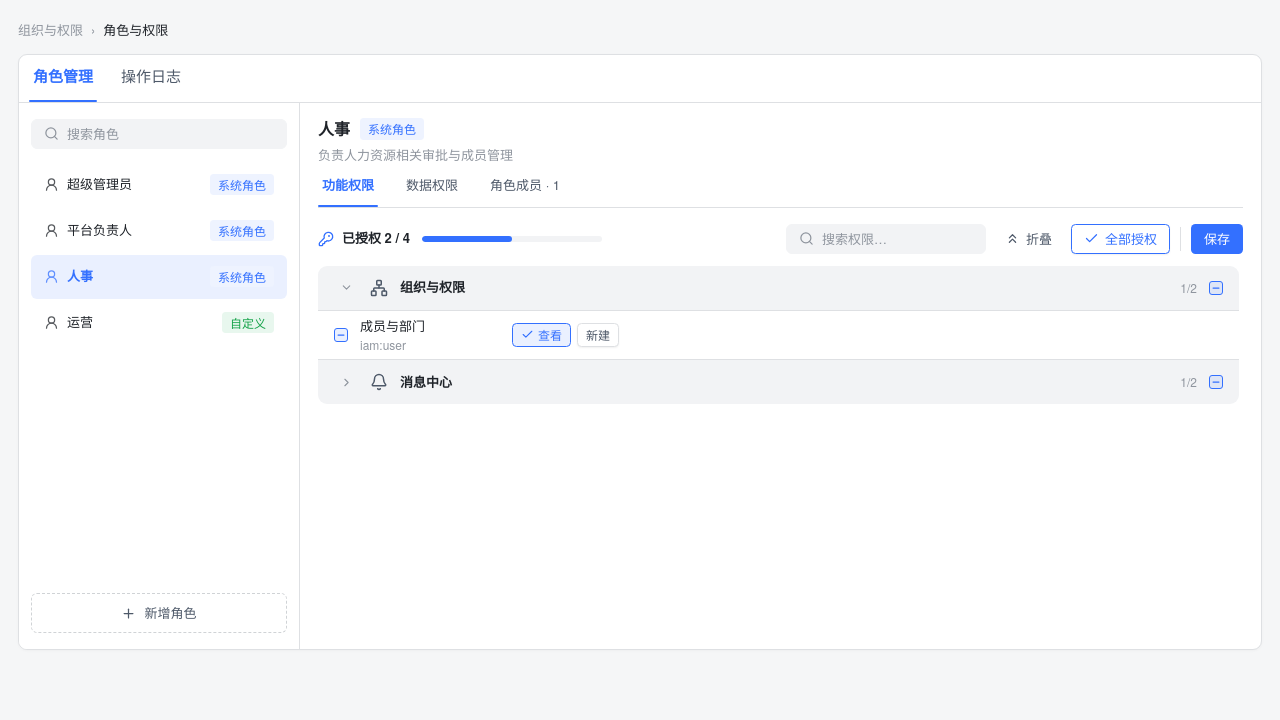
Test: 操作日志表格没有可写操作
This screenshot has width=1280, height=720.
Click the tab "操作日志" at {"x": 151, "y": 83}, box [117,65,185,102]
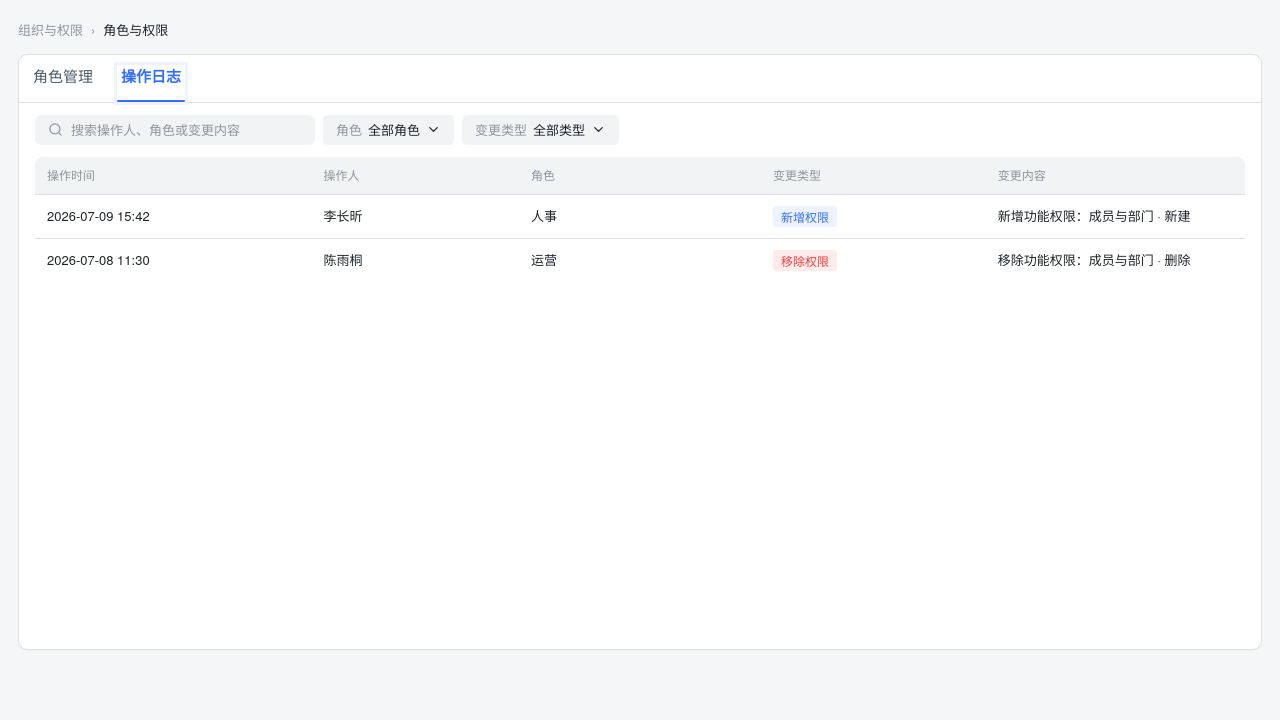
Expected: the button "超级管理员 系统角色" is gone
